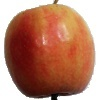apple: (4, 4, 95, 98)
